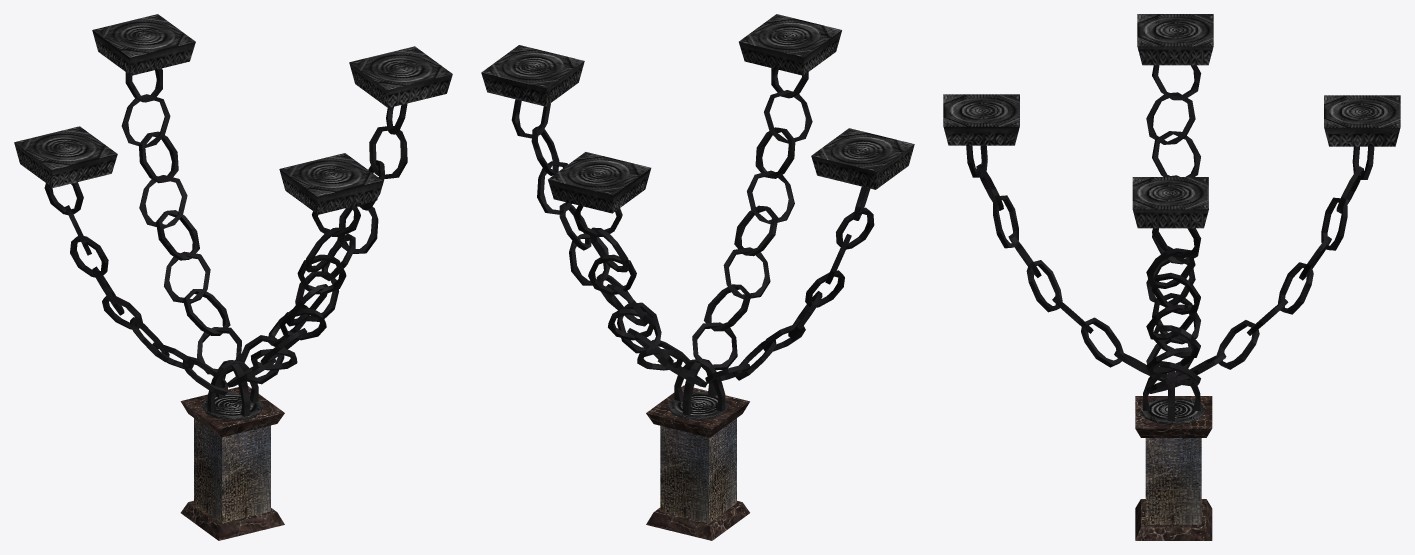
File: CHAINEDPILLAR_nogemstone.fbx
3 views of the same model, side by side, from view 1: azimuth 30°, elevation 25°; view 2: azimuth 150°, elevation 25°; view 3: azimuth 270°, elevation 25° (orthographic).
Visible parts, largest first — view 1: Mesh1; view 2: Mesh1; view 3: Mesh1.
Boxes of the visible parts, x1,y1,x2,y2 form: Mesh1: (14, 14, 452, 540); Mesh1: (481, 14, 914, 540); Mesh1: (943, 14, 1400, 540).
Size of the model in its own units: 33.05 by 32.73 by 32.62.
